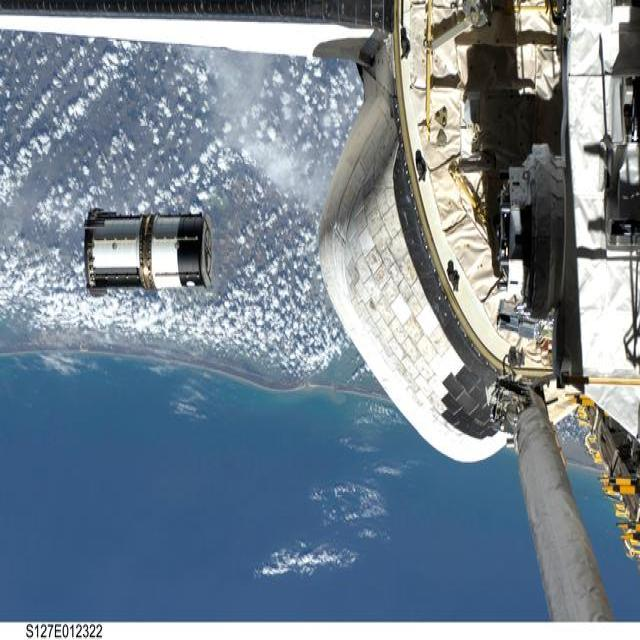satellite: (278, 5, 640, 640), (68, 196, 227, 309)
